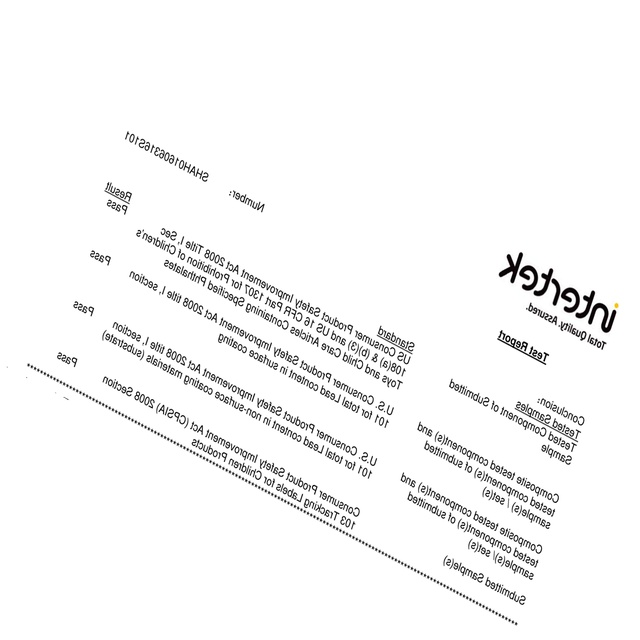intertek: (497, 247, 620, 337)
